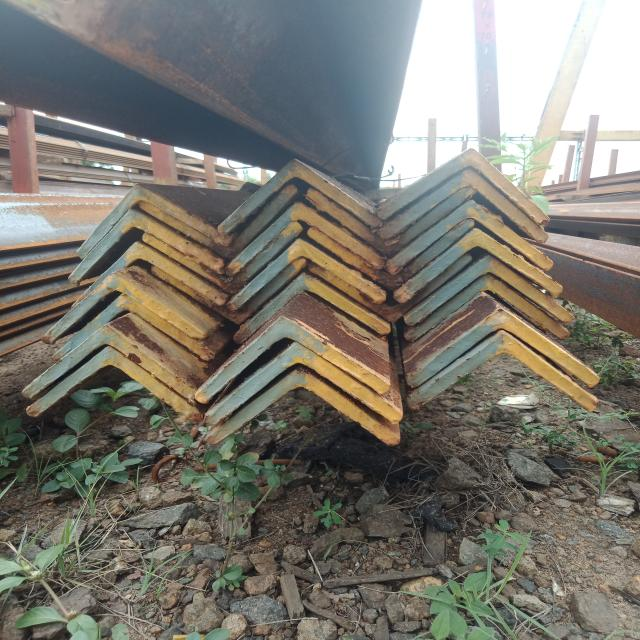metal-angles: (195, 316, 390, 404), (205, 342, 404, 427), (206, 366, 401, 446), (407, 331, 598, 411), (407, 308, 600, 387), (376, 147, 552, 227), (22, 325, 197, 401), (27, 346, 203, 421), (217, 158, 383, 235), (377, 169, 547, 243), (386, 200, 555, 273), (305, 186, 476, 258), (394, 229, 561, 302), (405, 254, 573, 325), (225, 201, 384, 276), (77, 183, 233, 259), (42, 273, 206, 345), (68, 210, 224, 285), (307, 220, 474, 290), (143, 221, 303, 294), (226, 239, 386, 311), (139, 185, 298, 257), (309, 254, 474, 323), (53, 293, 215, 362), (404, 273, 568, 341), (233, 273, 391, 343), (152, 257, 307, 326)
